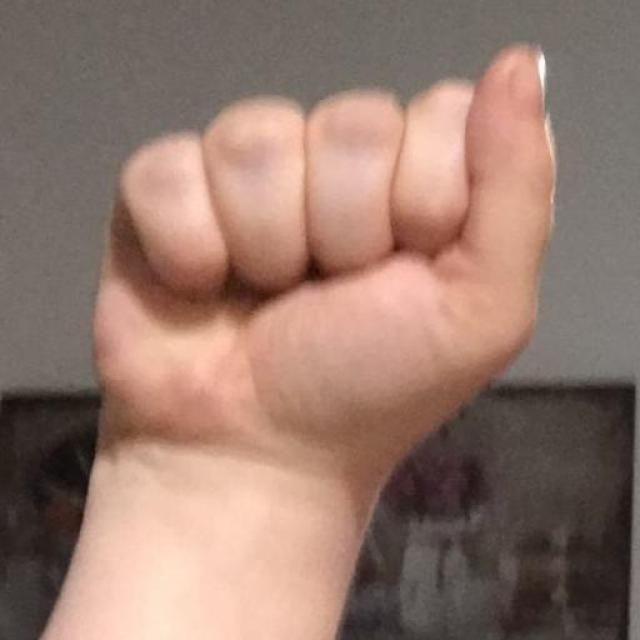hand: (89, 37, 559, 495)
